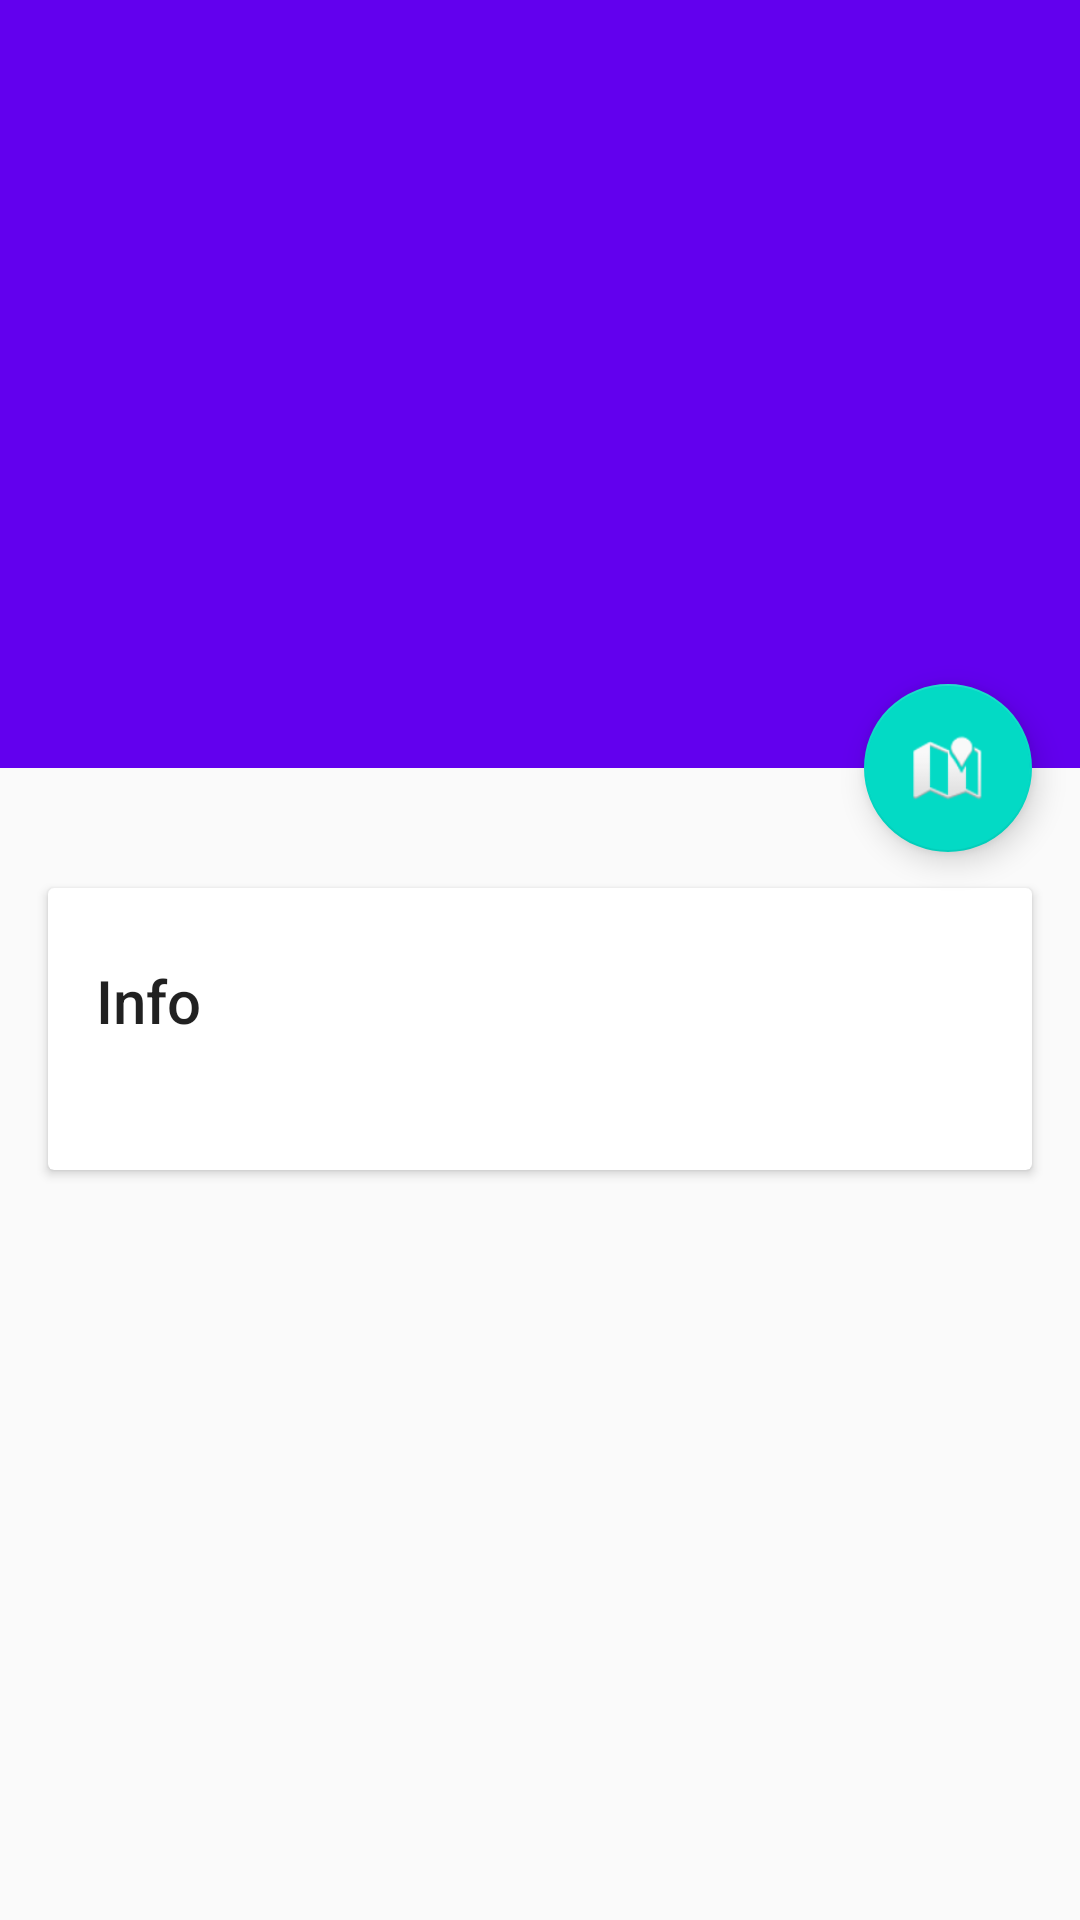

Icon click points for this 1080*1920 phone screenshot, format (x=x, y=y):
map: (x=948, y=768)
